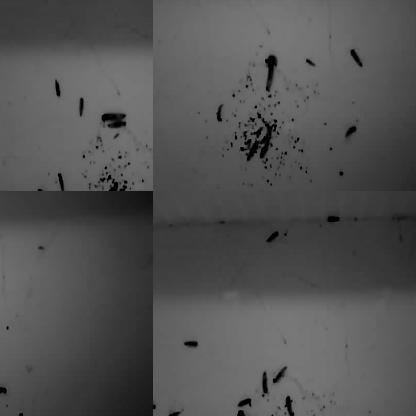PtecticusTenebrifer: (272, 365, 287, 385), (245, 141, 259, 161), (350, 50, 364, 69), (266, 61, 274, 94), (101, 111, 126, 121), (260, 140, 271, 160), (284, 395, 294, 416), (265, 231, 280, 243), (0, 344, 9, 363), (237, 397, 252, 408), (0, 384, 9, 402), (345, 126, 357, 139), (106, 122, 128, 129), (184, 339, 198, 350), (57, 172, 65, 191), (54, 80, 62, 98), (262, 372, 268, 395), (78, 97, 85, 116), (216, 103, 223, 122), (153, 122, 159, 144), (0, 318, 8, 334), (153, 274, 159, 295), (23, 191, 40, 198), (0, 212, 9, 225), (236, 410, 255, 416), (217, 0, 231, 8), (328, 216, 342, 224), (153, 399, 161, 412), (167, 409, 181, 416), (0, 208, 4, 229), (114, 191, 126, 198), (35, 191, 51, 196), (0, 332, 7, 343), (0, 339, 4, 358), (153, 222, 158, 233), (37, 187, 50, 191), (96, 191, 108, 195), (0, 0, 9, 5), (0, 191, 7, 196), (153, 0, 161, 4)
